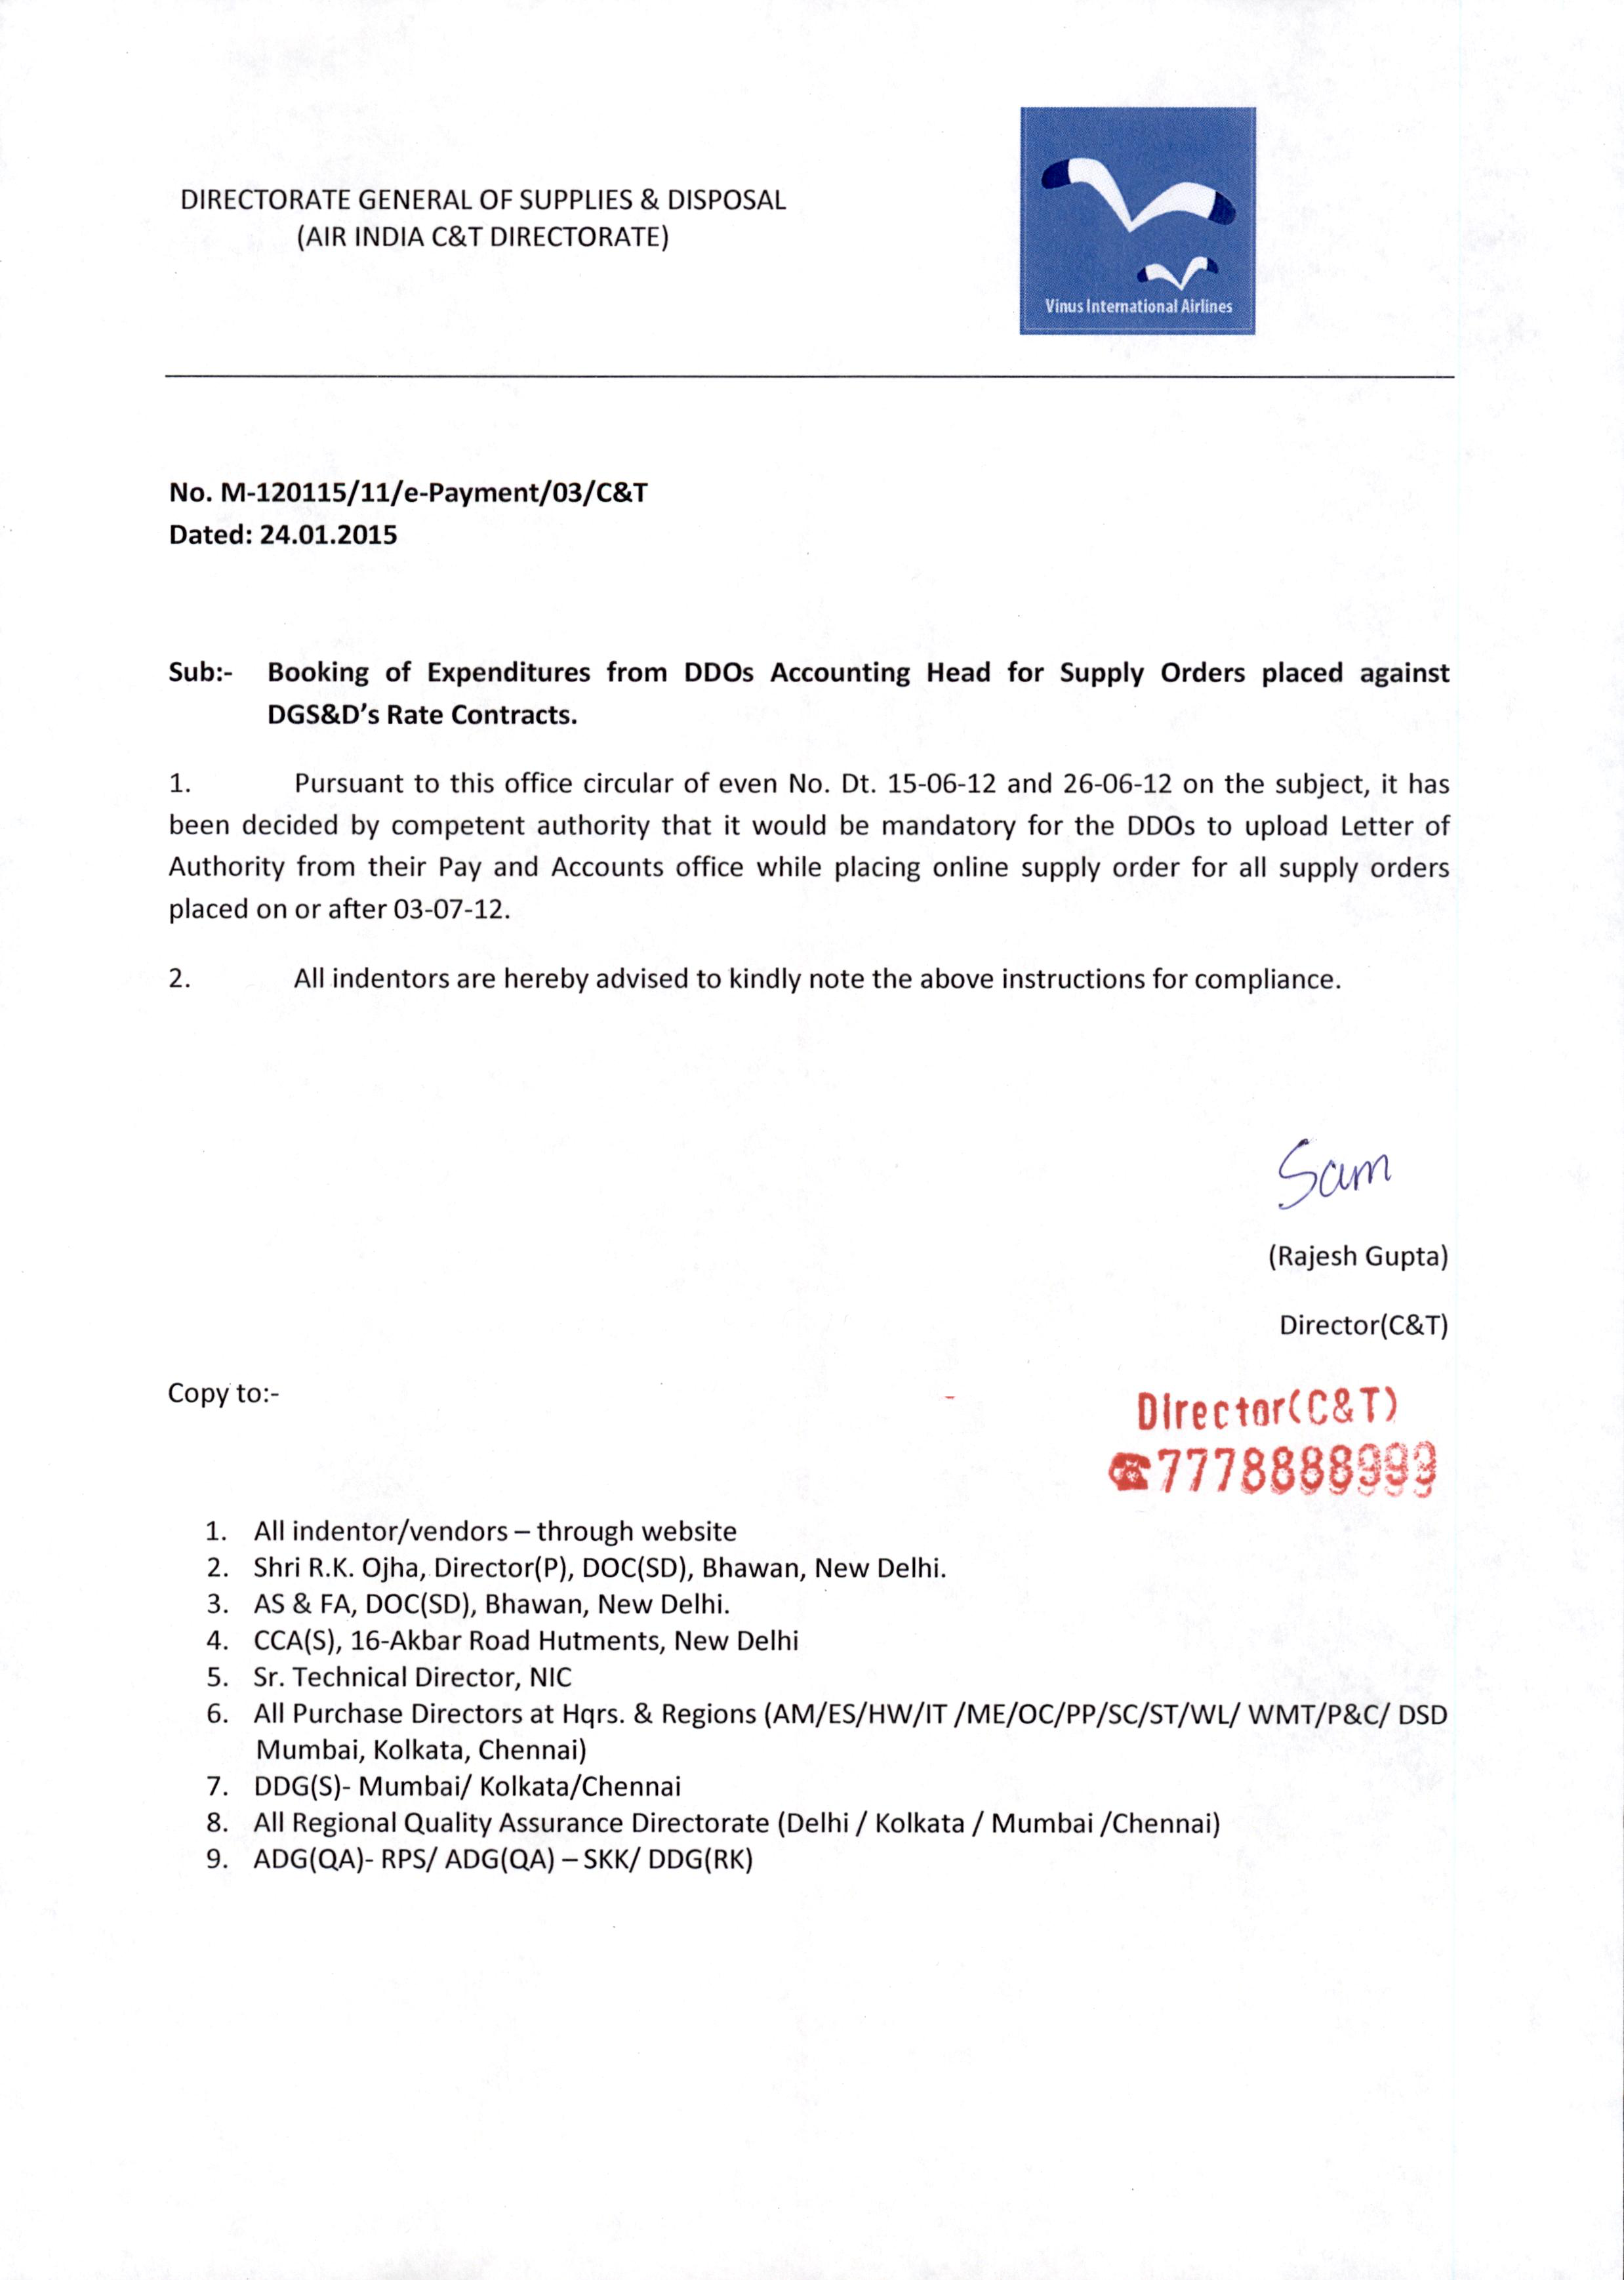Signature: (1267, 1132, 1408, 1220)
